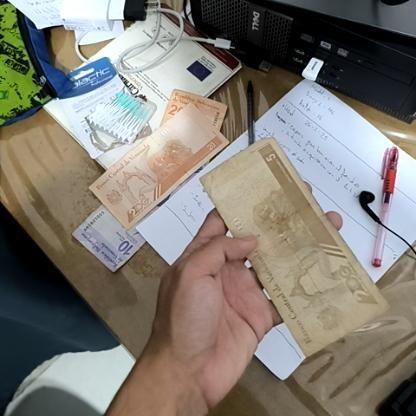five-back-vef: (199, 136, 391, 359)
twenty-back-vef: (86, 87, 230, 230)
